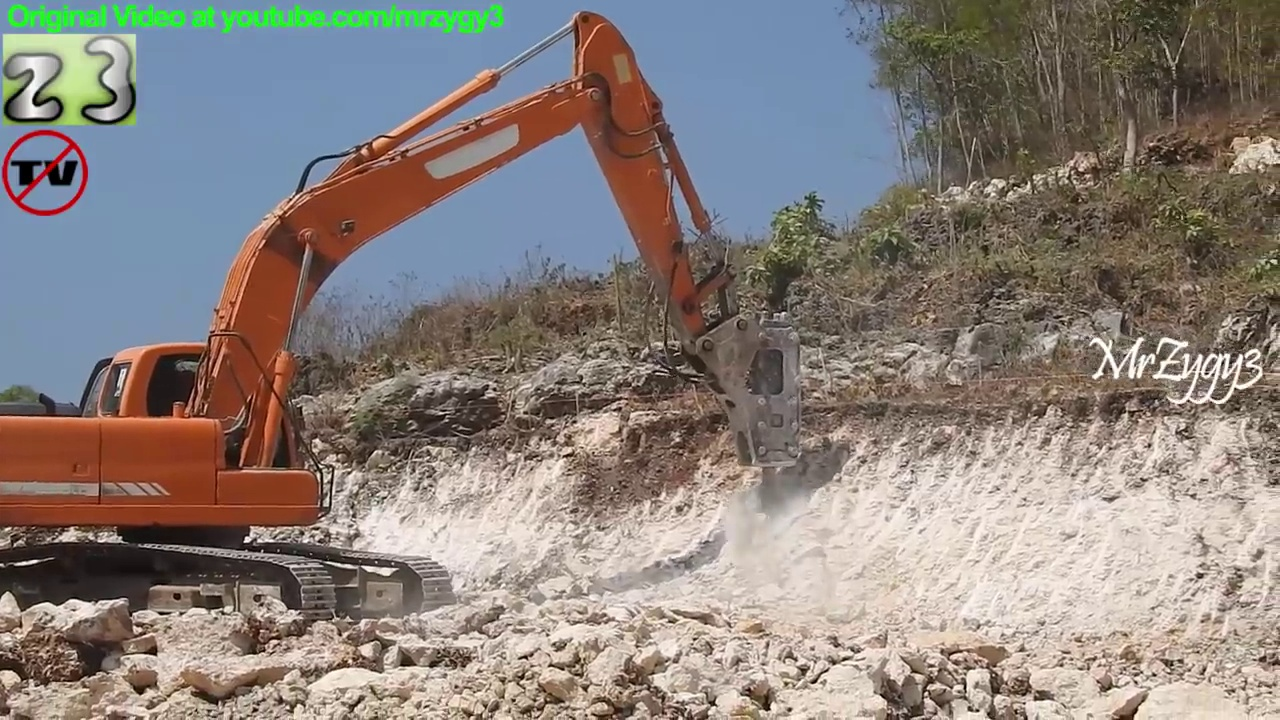excavator: (3, 9, 809, 645)
